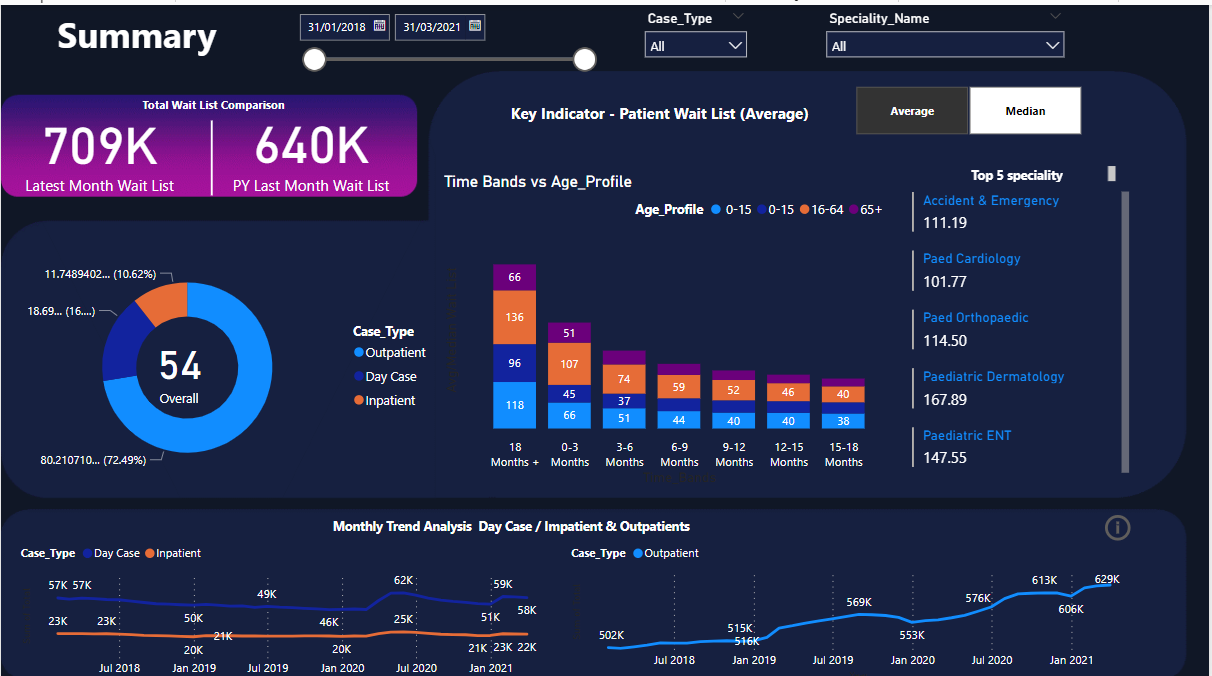

The page's visual inventory and layout, read from the dashboard file:
{"tool":"powerbi","page":{"name":"summary","canvas":[1280,720],"ordinal":0},"visuals":[{"type":"card","fields":{"Values":["AllPatient.Latest Month Wait List"]},"box":[0,98.5,208.2,108.1],"z":0},{"type":"card","fields":{"Values":["AllPatient.PY Last Month Wait List"]},"box":[224.1,101.7,208.2,100.1],"z":1000},{"type":"donutChart","fields":{"Category":["AllPatient.Case_Type"],"Y":["AllPatient.Avg/Median Wait List"]},"box":[15.9,255.9,448.2,255.9],"z":2000},{"type":"slicer","fields":{"Values":["Calc method.Calc method"]},"box":[880,80,288,64],"z":3000},{"type":"columnChart","title":"Time Bands vs Age_Profile","fields":{"Y":["AllPatient.Avg/Median Wait List"],"Category":["AllPatient.Time_Bands"],"Series":["AllPatient.Age_Profile"]},"box":[464,176,480,336],"z":4000},{"type":"multiRowCard","fields":{"Values":["AllPatient.Speciality_Name","AllPatient.Average Wait List"]},"box":[960,192,240,320],"z":5000},{"type":"card","fields":{"Values":["AllPatient.NoDataLeft"]},"box":[131.9,608.7,252.7,111.3],"z":6000},{"type":"lineChart","fields":{"Y":["Sum(AllPatient.Total)"],"Series":["AllPatient.Case_Type"],"Category":["AllPatient.Archive_Date"]},"box":[15.4,560.4,570,159.8],"z":7000},{"type":"card","fields":{"Values":["AllPatient.NoDataRight"]},"box":[737.6,608.6,300.4,111.7],"z":8000},{"type":"lineChart","fields":{"Y":["Sum(AllPatient.Total)"],"Series":["AllPatient.Case_Type"],"Category":["AllPatient.Archive_Date.Variation.Date Hierarchy.Year","AllPatient.Archive_Date.Variation.Date Hierarchy.Quarter","AllPatient.Archive_Date.Variation.Date Hierarchy.Month","AllPatient.Archive_Date.Variation.Date Hierarchy.Day"]},"box":[598.9,560.4,604.7,159.8],"z":9000},{"type":"slicer","fields":{"Values":["AllPatient.Archive_Date"]},"box":[304,0,336,80],"z":10000},{"type":"slicer","fields":{"Values":["AllPatient.Case_Type"]},"box":[672,0,128,80],"z":11000},{"type":"slicer","fields":{"Values":["AllPatient.Speciality_Name"]},"box":[864,0,272,80],"z":12000},{"type":"textbox","box":[0,0,288,64],"z":13000},{"type":"card","fields":{"Values":["AllPatient.Avg/Median Wait List"]},"box":[143,335.4,128.7,97],"z":14000},{"type":"shape","box":[73.1,122.4,300.4,79.5],"z":15000},{"type":"textbox","box":[346.5,537.2,503.8,35],"z":16000},{"type":"textbox","box":[144.6,90.6,214.6,42.9],"z":17000},{"type":"textbox","box":[974.3,165.3,211.4,27],"z":18000},{"type":"card","fields":{"Values":["AllPatient.Dynamic title"]},"box":[515,89,365.6,54],"z":19000},{"type":"actionButton","box":[1165.1,535.4,67.4,36.6],"z":20000}]}

Visuals, with their boxes in screenshot pixels (x1, y1, x2, y2), scaled from the page's 1280x720 canvas onto the 1212x676 screenshot:
card - AllPatient.Latest Month Wait List: <region>0, 92, 197, 194</region>
card - AllPatient.PY Last Month Wait List: <region>212, 95, 409, 189</region>
donutChart - AllPatient.Case_Type x AllPatient.Avg/Median Wait List: <region>15, 240, 439, 481</region>
slicer - Calc method.Calc method: <region>833, 75, 1106, 135</region>
"Time Bands vs Age_Profile" columnChart: <region>439, 165, 894, 481</region>
multiRowCard - AllPatient.Speciality_Name x AllPatient.Average Wait List: <region>909, 180, 1136, 481</region>
card - AllPatient.NoDataLeft: <region>125, 572, 364, 675</region>
lineChart - Sum(AllPatient.Total) x AllPatient.Case_Type: <region>15, 526, 554, 675</region>
card - AllPatient.NoDataRight: <region>698, 571, 983, 675</region>
lineChart - Sum(AllPatient.Total) x AllPatient.Case_Type: <region>567, 526, 1140, 675</region>
slicer - AllPatient.Archive_Date: <region>288, 0, 606, 75</region>
slicer - AllPatient.Case_Type: <region>636, 0, 758, 75</region>
slicer - AllPatient.Speciality_Name: <region>818, 0, 1076, 75</region>
textbox: <region>0, 0, 273, 60</region>
card - AllPatient.Avg/Median Wait List: <region>135, 315, 257, 406</region>
shape: <region>69, 115, 354, 190</region>
textbox: <region>328, 504, 805, 537</region>
textbox: <region>137, 85, 340, 125</region>
textbox: <region>923, 155, 1123, 181</region>
card - AllPatient.Dynamic title: <region>488, 84, 834, 134</region>
actionButton: <region>1103, 503, 1167, 537</region>
